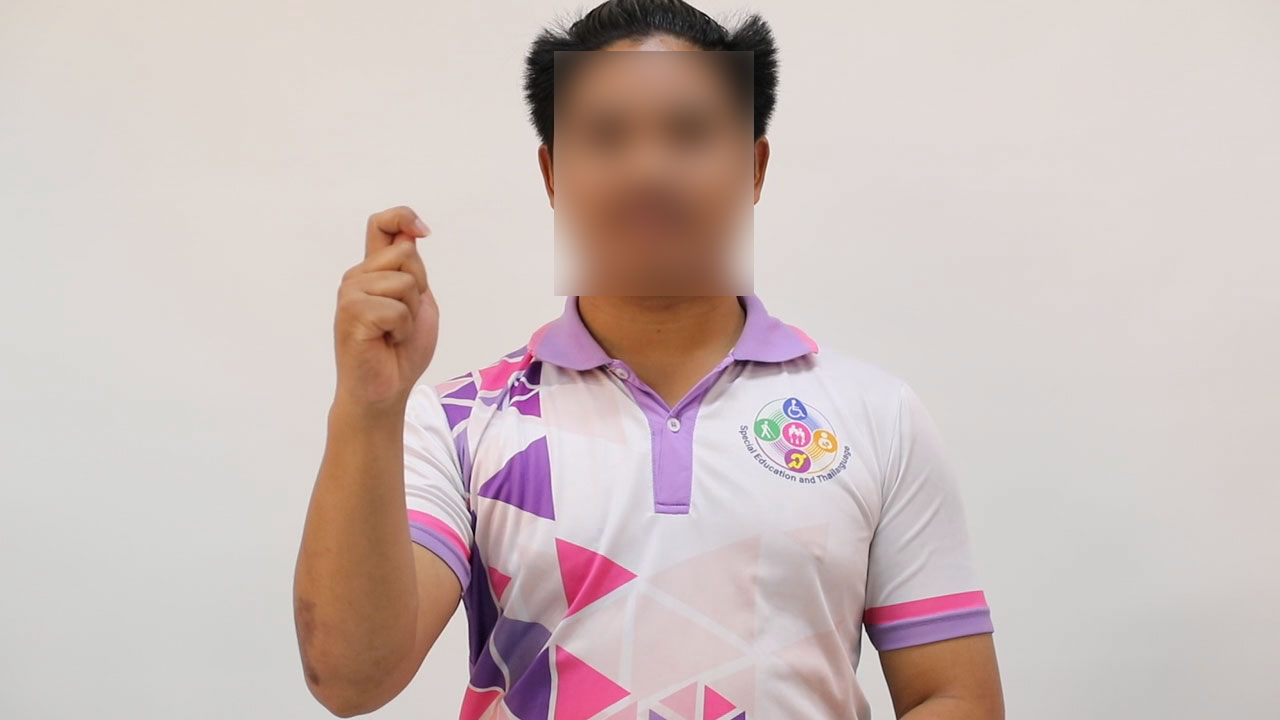or: (329, 203, 443, 414)
